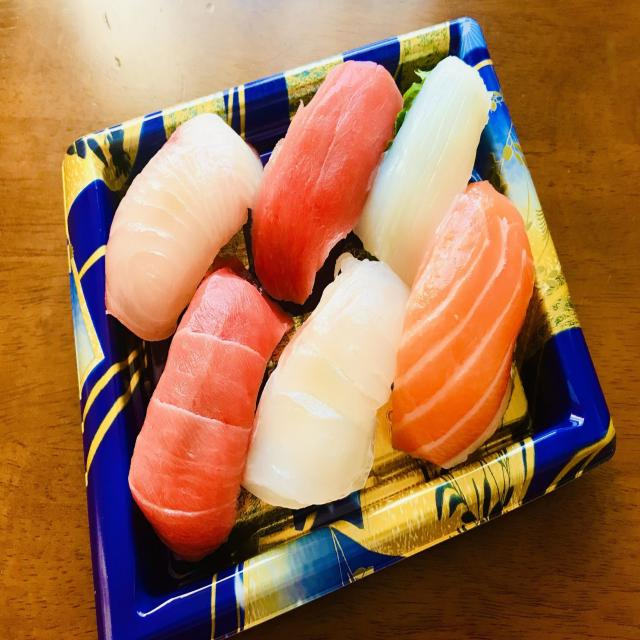sushi: (60, 17, 618, 640)
